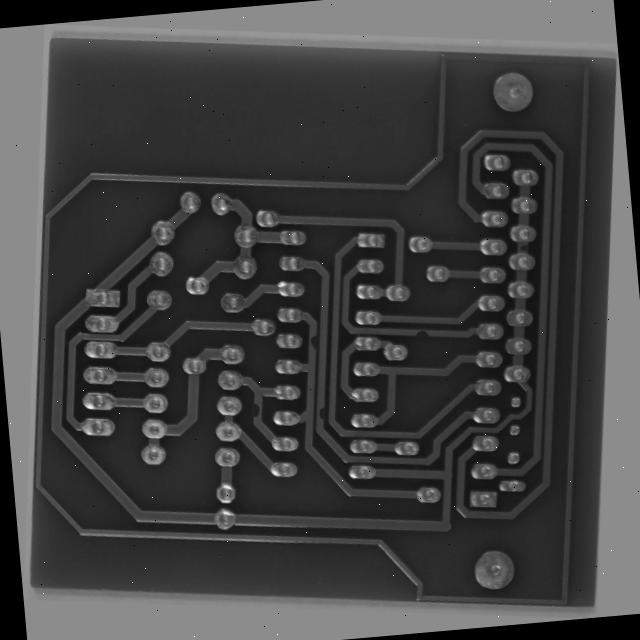mouse_bite: (423, 309, 448, 331), (521, 202, 547, 223), (305, 331, 324, 359), (251, 415, 271, 440), (325, 409, 343, 435)
